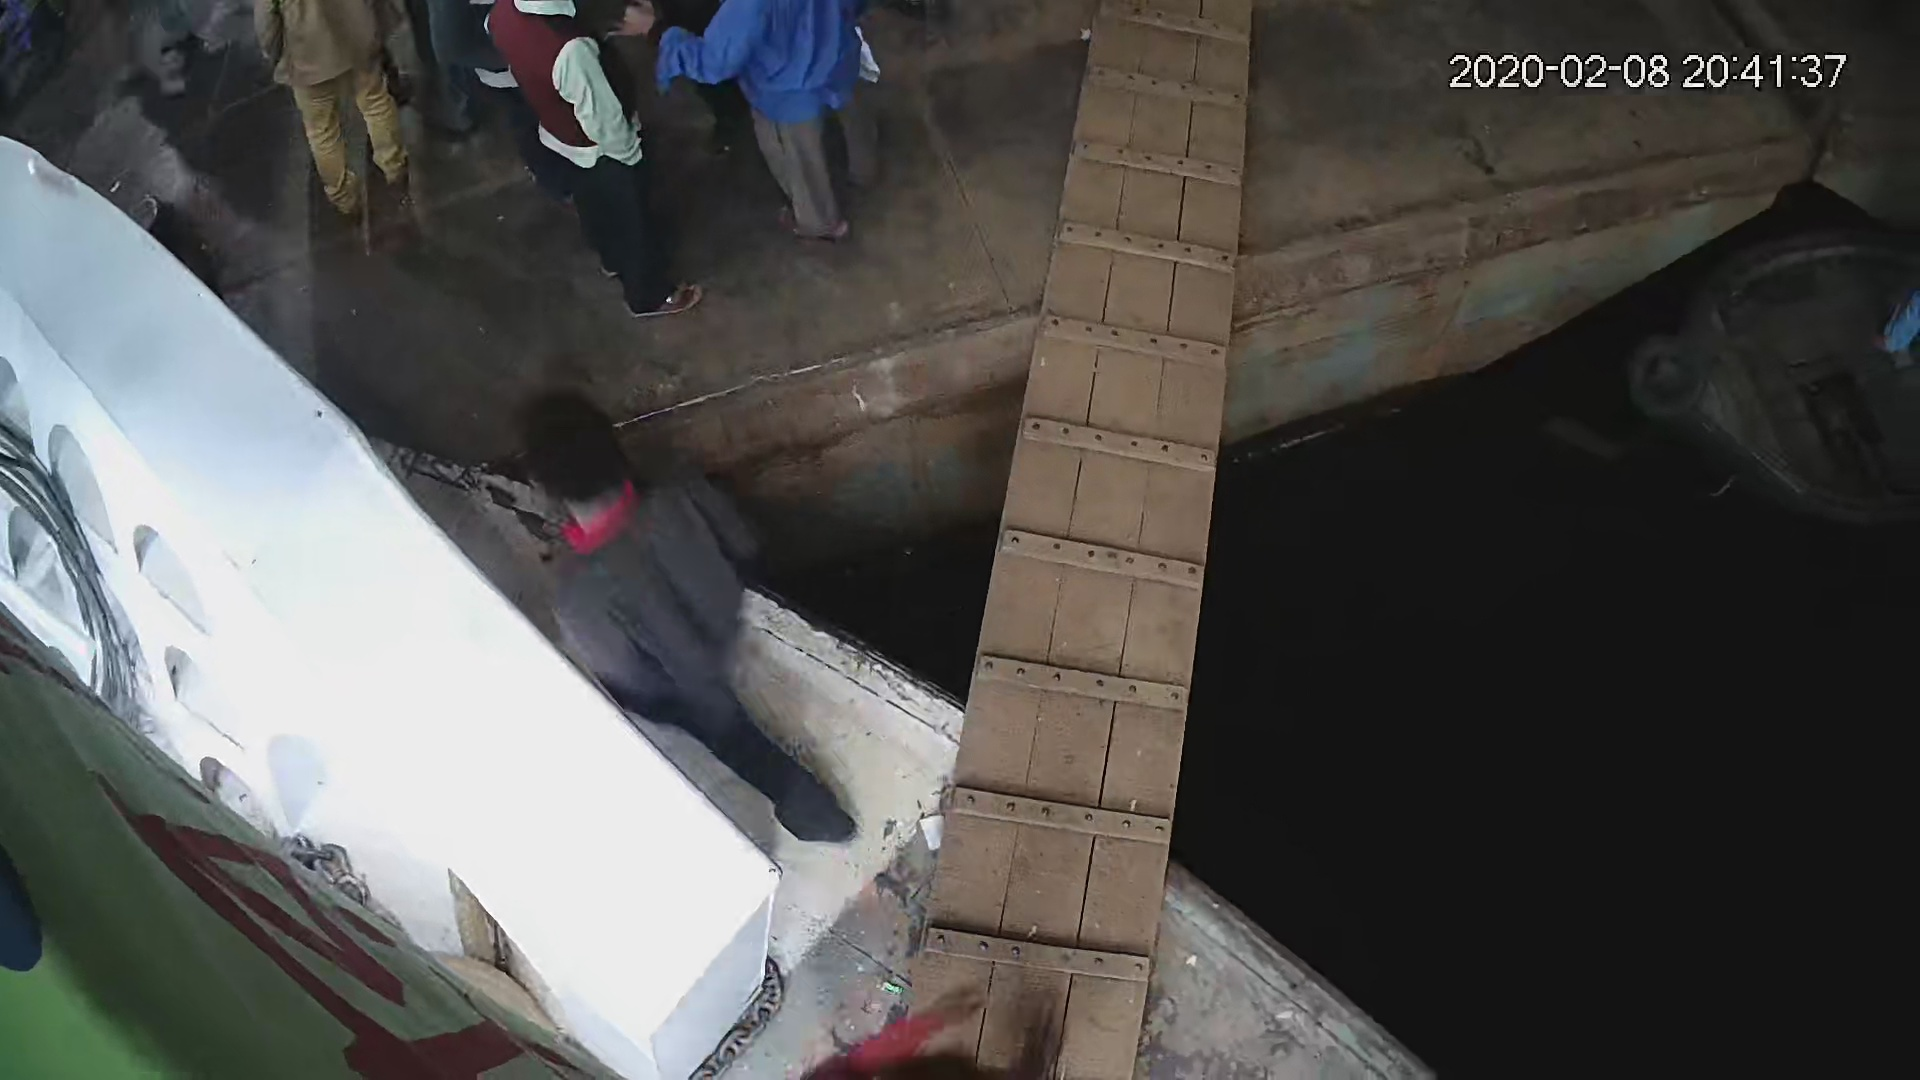person: (496, 382, 873, 849), (491, 1, 702, 316), (688, 1, 877, 247), (249, 1, 425, 226)
